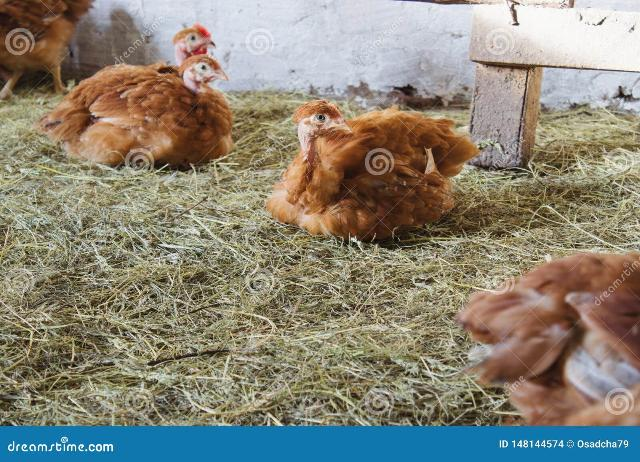Chicken: (452, 249, 640, 427), (262, 100, 483, 250), (38, 52, 233, 172), (0, 3, 101, 100), (170, 21, 217, 70)
